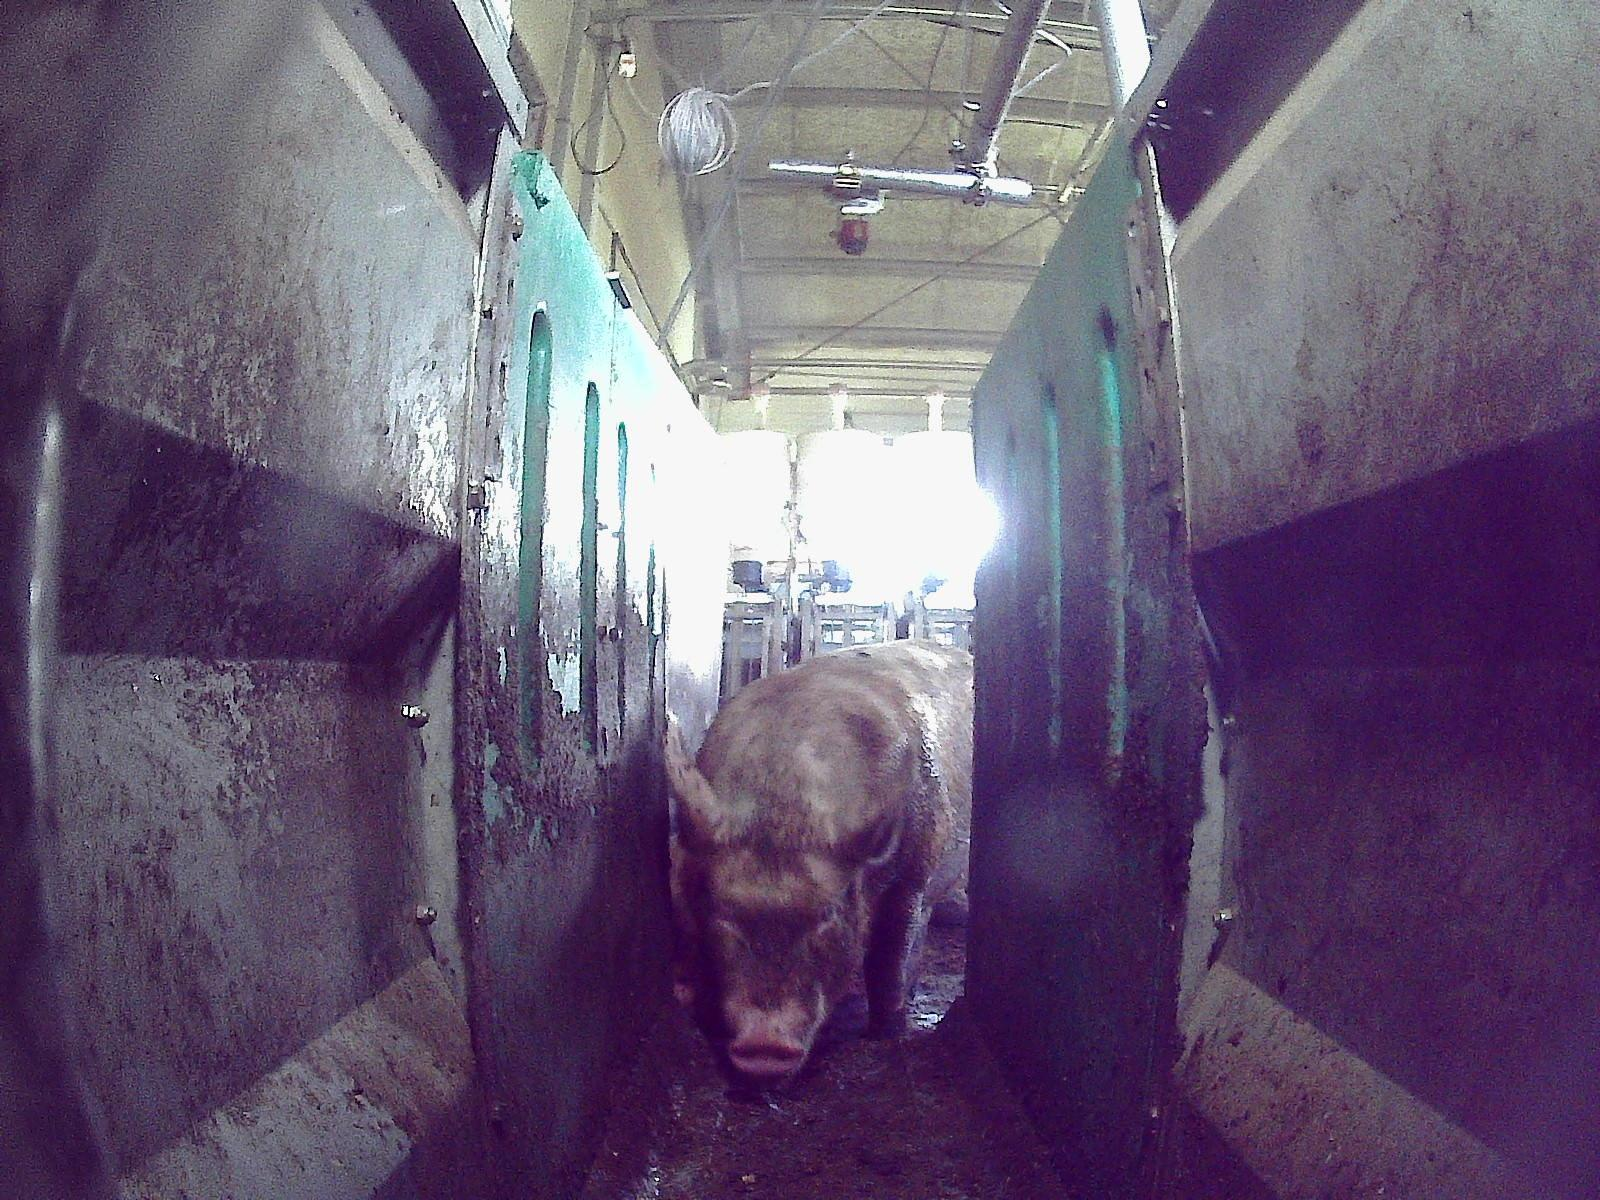Face: (683, 783, 879, 1082)
